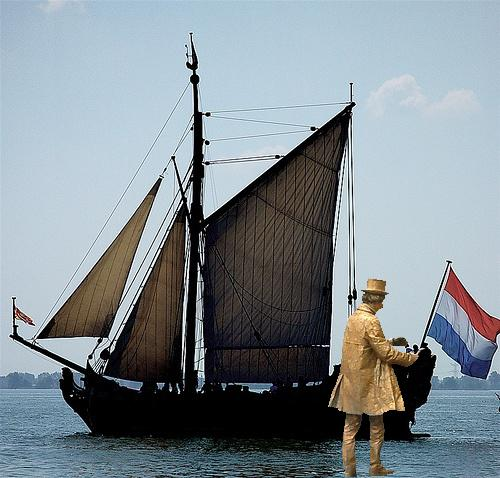tampered: (329, 279, 419, 477)
